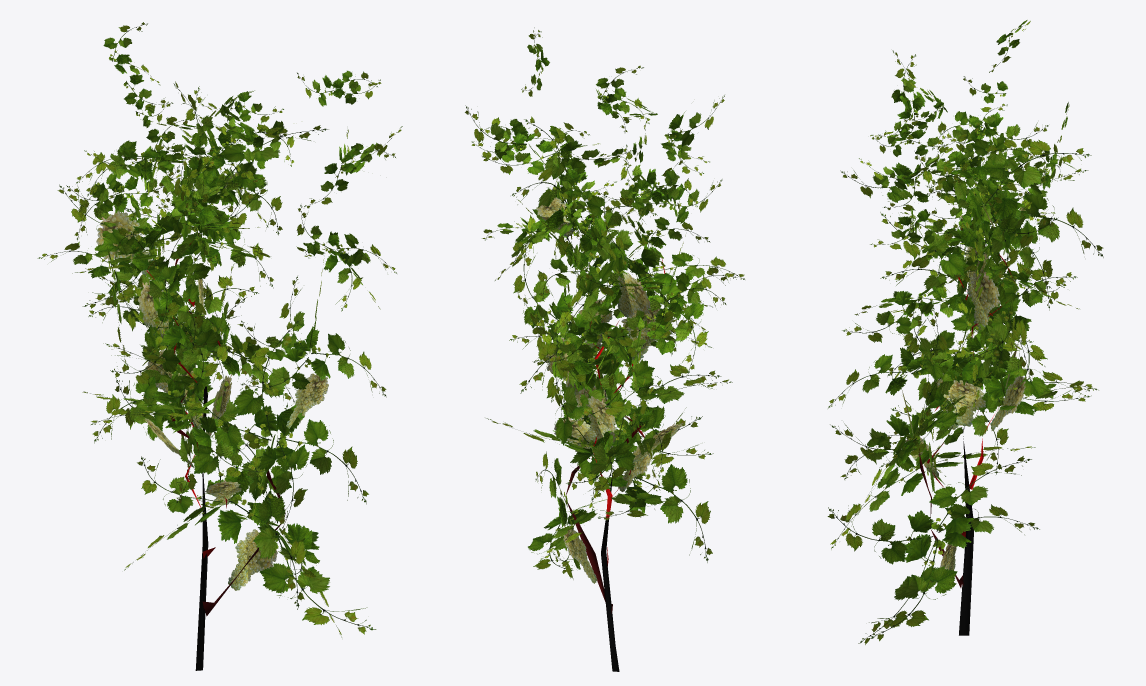
Rendered from grape1 lod1.FBX.
3 views of the same model, side by side, from view 1: azimuth 30°, elevation 25°; view 2: azimuth 150°, elevation 25°; view 3: azimuth 270°, elevation 25° (orthographic). The views are drawn at different scales.
Visible parts, largest first — view 1: grape_plant001; view 2: grape_plant001; view 3: grape_plant001.
Part boxes in pixels (x1,y1,x2,y2): grape_plant001: [37, 22, 402, 670]; grape_plant001: [465, 27, 744, 671]; grape_plant001: [827, 20, 1103, 644].
Bounding box in the file's own units: 30843 × 52877 × 26340.
